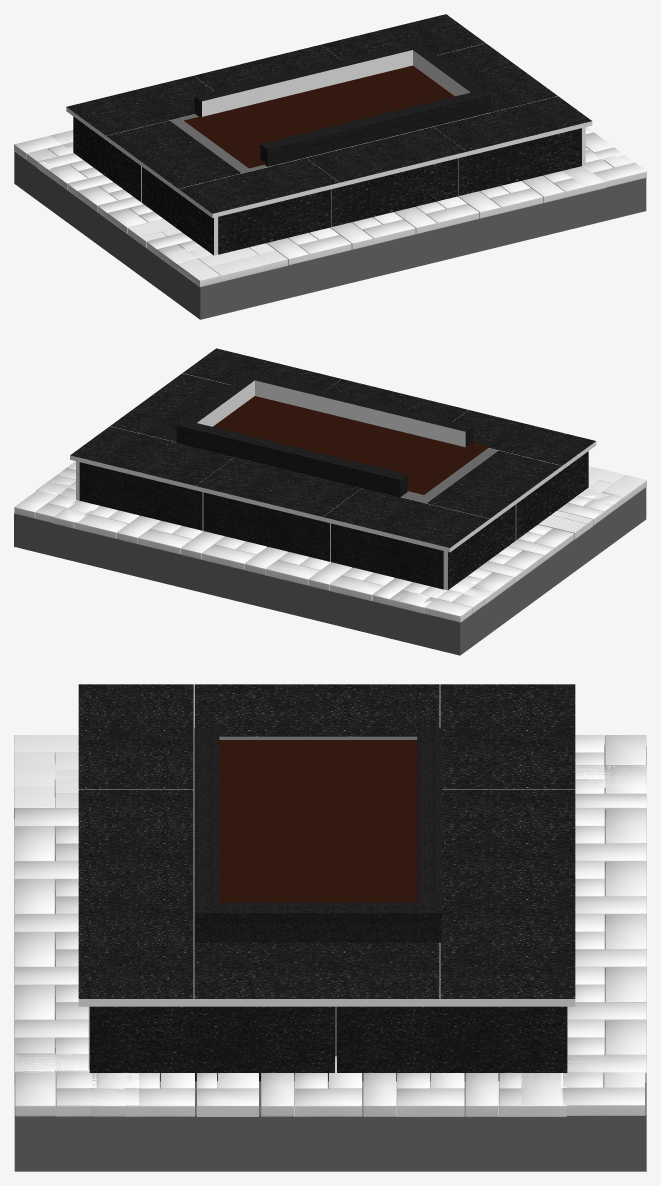
File: 120-180-30 ччерн с брусч [u_1_u].glb
3 renders of one model, top to bottom at view 1: azimuth 30°, elevation 25°; view 2: azimuth 150°, elevation 25°; view 3: azimuth 270°, elevation 25°, orthographic. The views are drawn at different scales.
Visible parts, largest first — view 1: Куб.201, Плоскость.213, Куб.206, Plane.006, Плоскость.228, Куб.202, Куб.205, Куб.204, Плоскость.221, Куб.203, Плоскость.211, Плоскость.227 (+8 smaller); view 2: Куб.201, Плоскость.213, Куб.200, Plane.006, Плоскость.212, Куб.204, Куб.205, Куб.202, Плоскость.222, Куб.203, Плоскость.214, Плоскость.220 (+8 smaller); view 3: Куб.201, Плоскость.213, Plane.006, Куб.199, Плоскость.212, Плоскость.228, Куб.203, Плоскость.211, Плоскость.214, Куб.202, Плоскость.219, Плоскость.217 (+9 smaller).
Boxes of the visible parts, left/top/right/bottom form: Куб.201: left=66, top=14, right=592, bottom=218; Плоскость.213: left=14, top=151, right=646, bottom=319; Куб.206: left=218, top=128, right=581, bottom=254; Plane.006: left=184, top=65, right=454, bottom=168; Плоскость.228: left=266, top=165, right=606, bottom=265; Куб.202: left=260, top=92, right=479, bottom=166; Куб.205: left=73, top=116, right=217, bottom=255; Куб.204: left=194, top=44, right=412, bottom=116; Плоскость.221: left=165, top=245, right=262, bottom=286; Куб.203: left=406, top=41, right=490, bottom=114; Плоскость.211: left=563, top=147, right=646, bottom=187; Плоскость.227: left=97, top=197, right=163, bottom=233; Куб.201: left=70, top=348, right=596, bottom=552; Плоскость.213: left=14, top=487, right=646, bottom=655; Куб.200: left=79, top=462, right=443, bottom=589; Plane.006: left=213, top=396, right=489, bottom=494; Плоскость.212: left=53, top=500, right=394, bottom=601; Куб.204: left=187, top=423, right=407, bottom=497; Куб.205: left=443, top=451, right=588, bottom=590; Куб.202: left=255, top=375, right=473, bottom=447; Плоскость.222: left=398, top=581, right=494, bottom=622; Куб.203: left=176, top=372, right=261, bottom=444; Плоскость.214: left=14, top=483, right=99, bottom=522; Плоскость.220: left=372, top=578, right=446, bottom=613; Куб.201: left=78, top=684, right=575, bottom=1006; Плоскость.213: left=14, top=746, right=646, bottom=1171; Plane.006: left=219, top=740, right=417, bottom=902; Куб.199: left=89, top=1006, right=567, bottom=1081; Плоскость.212: left=567, top=808, right=646, bottom=1082; Плоскость.228: left=14, top=808, right=89, bottom=1082; Куб.203: left=194, top=902, right=441, bottom=942; Плоскость.211: left=15, top=1053, right=138, bottom=1116; Плоскость.214: left=521, top=1052, right=645, bottom=1115; Куб.202: left=194, top=727, right=219, bottom=902; Плоскость.219: left=261, top=1056, right=362, bottom=1116; Плоскость.217: left=363, top=1073, right=464, bottom=1116.
Size of the model in its own units: 2.12 by 0.4642 by 1.53.
7 materials, 2 textured.
